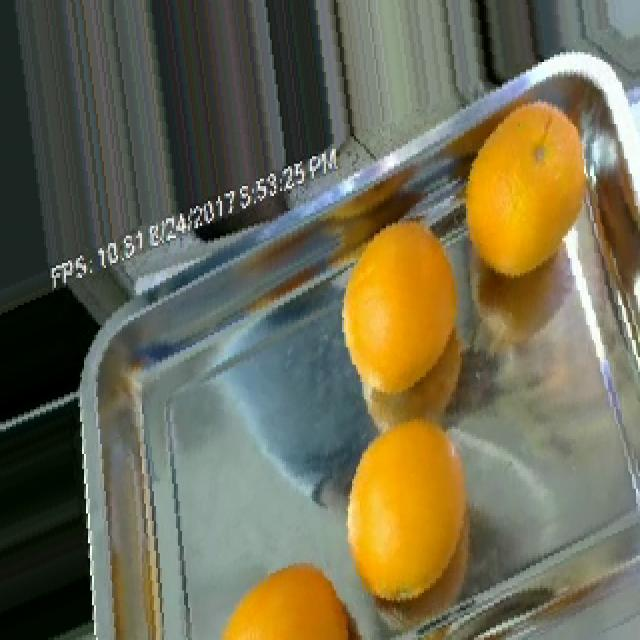Fruit: (324, 404, 502, 620), (210, 548, 372, 640)
